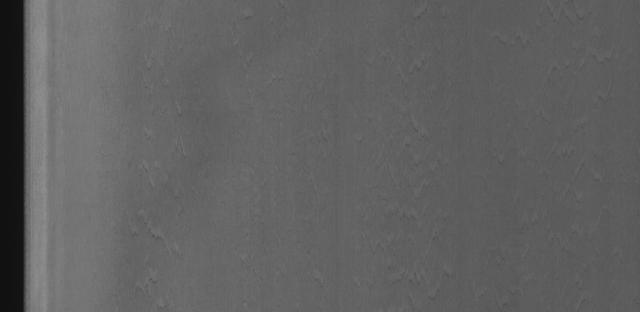silk_spot: (370, 27, 457, 267), (131, 41, 205, 270)
